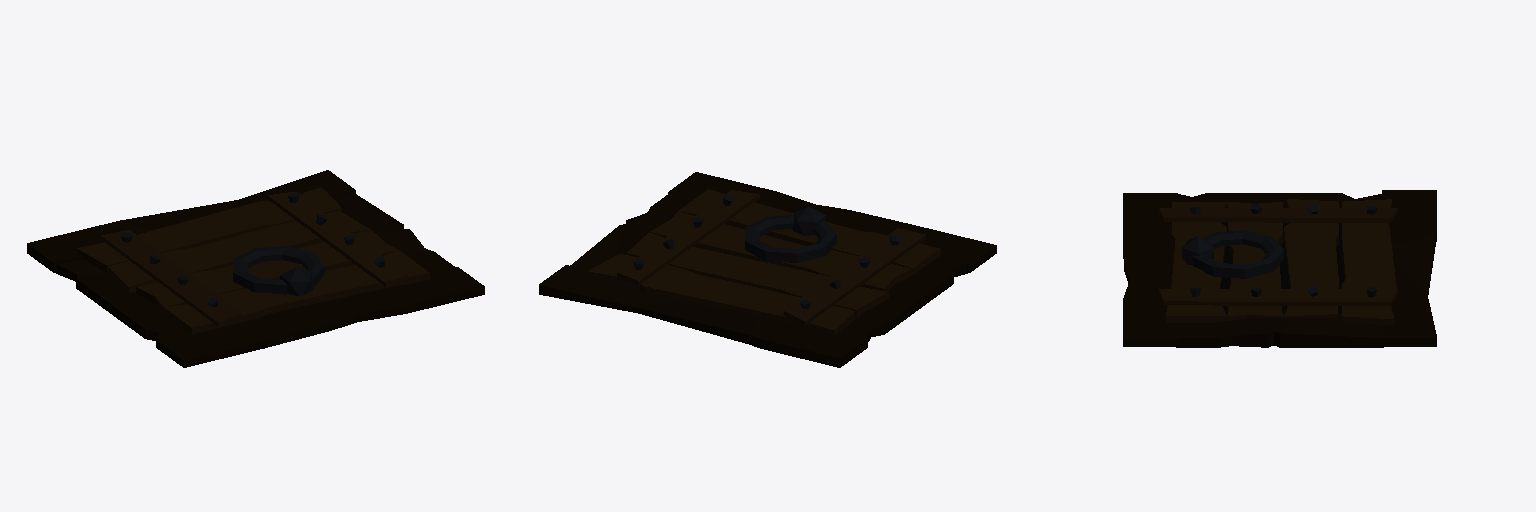
File: Trapdoor.obj
The picture shows the model from 3 angles: view 1: azimuth 30°, elevation 25°; view 2: azimuth 150°, elevation 25°; view 3: azimuth 270°, elevation 25°; orthographic projection.
Parts seen in each view (by area): view 1: Trapdoor_Cylinder.027; view 2: Trapdoor_Cylinder.027; view 3: Trapdoor_Cylinder.027.
Part boxes in pixels (x1,y1,x2,y2): Trapdoor_Cylinder.027: (27, 170, 484, 367); Trapdoor_Cylinder.027: (539, 172, 996, 367); Trapdoor_Cylinder.027: (1123, 190, 1436, 347).
Size of the model in its own units: 1.74 by 0.2151 by 1.57.